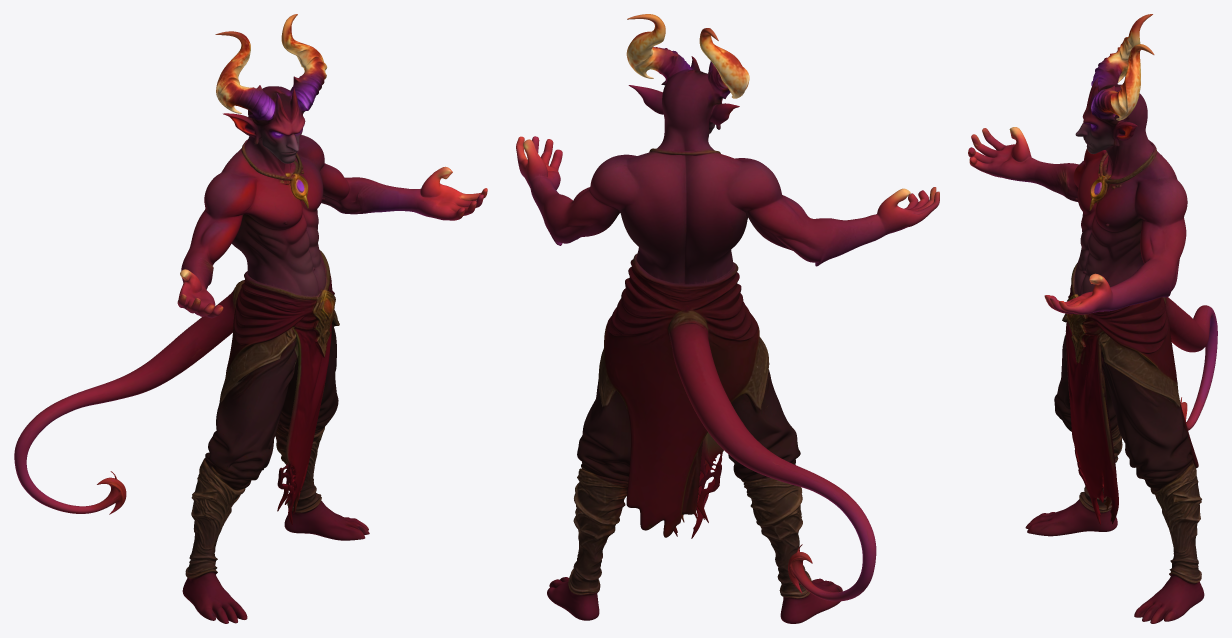
The model's file is tiefling_sorcerer_full_male_01.glb.
3 renders of one model, left to right at view 1: azimuth 30°, elevation 25°; view 2: azimuth 150°, elevation 25°; view 3: azimuth 270°, elevation 25°, orthographic. The views are drawn at different scales.
Parts seen in each view (by area): view 1: material; view 2: material; view 3: material.
Part boxes in pixels (<box>): material: <box>14,14,487,623</box>; material: <box>516,14,939,623</box>; material: <box>968,14,1217,623</box>.
Bounding box in the file's own units: 0.8242 × 1.06 × 0.4452.
Materials: 1 (1 with a texture image).
